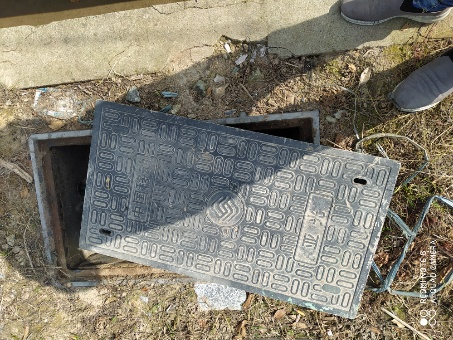uncovered: (26, 102, 401, 320)
